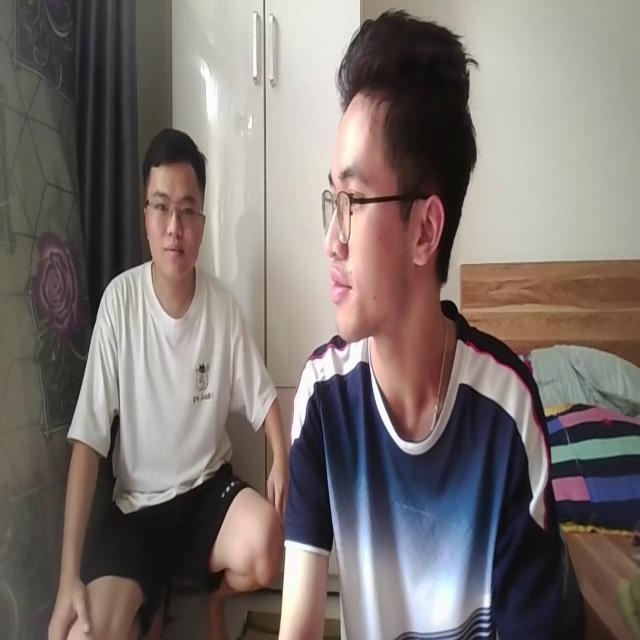extra_person: (45, 114, 285, 640)
student: (278, 10, 562, 640)
